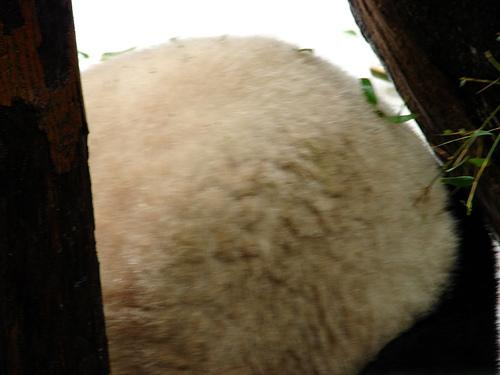panda: (82, 37, 497, 374)
